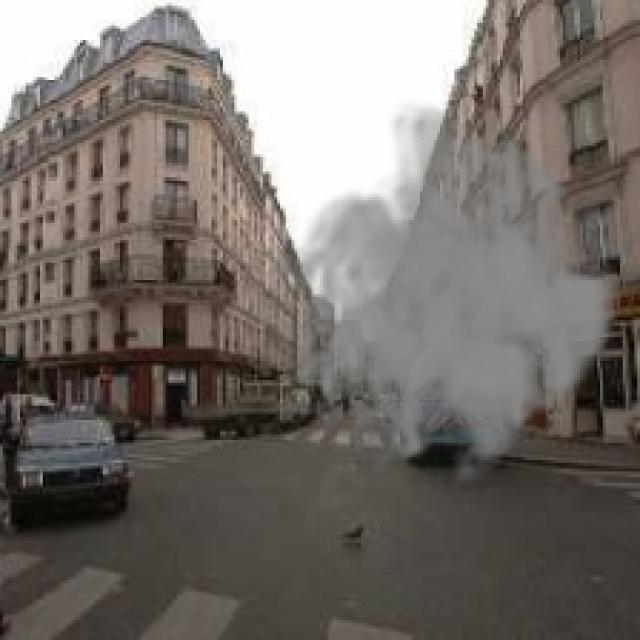Smoke: (274, 97, 626, 500)
